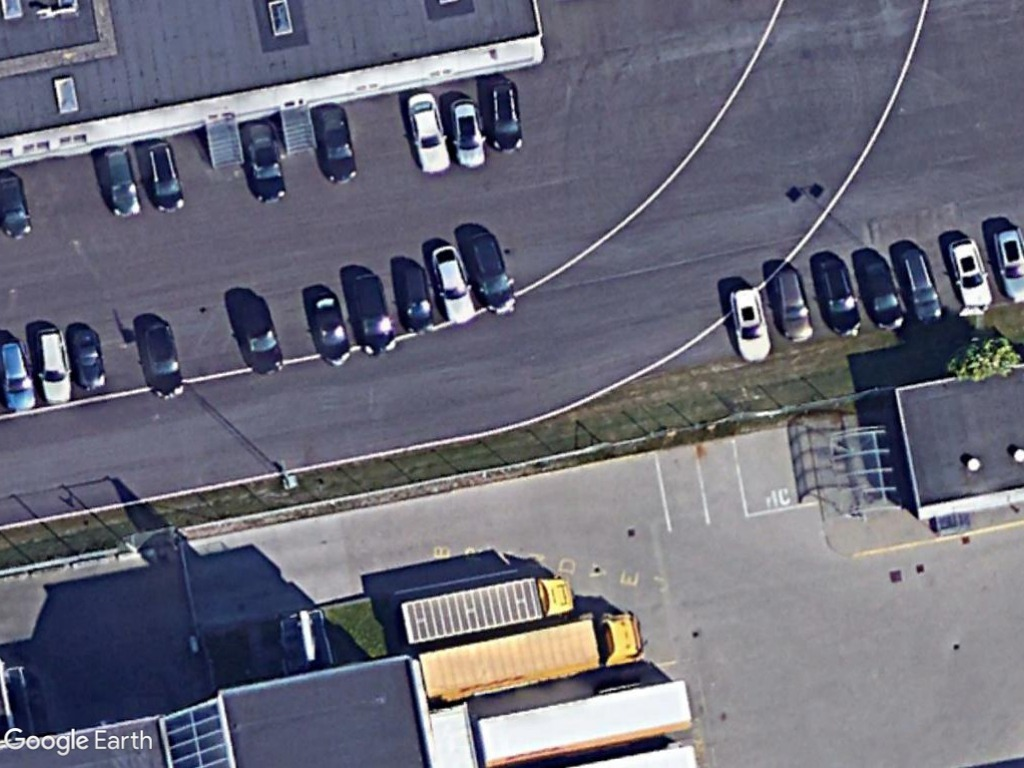car: (466, 227, 521, 318), (812, 250, 867, 339), (348, 268, 401, 358), (241, 118, 292, 209), (403, 89, 454, 179), (427, 240, 480, 325), (236, 294, 290, 377), (726, 283, 778, 368), (138, 317, 191, 400), (945, 234, 997, 313), (898, 245, 945, 327), (315, 105, 361, 187), (309, 288, 356, 367), (859, 253, 905, 332), (31, 323, 74, 407), (99, 145, 144, 222), (448, 91, 490, 171), (772, 266, 815, 344), (145, 138, 188, 215), (0, 336, 39, 418), (487, 76, 525, 155), (399, 260, 437, 337), (70, 325, 113, 390)
truck: (417, 607, 648, 703), (398, 574, 580, 652)
